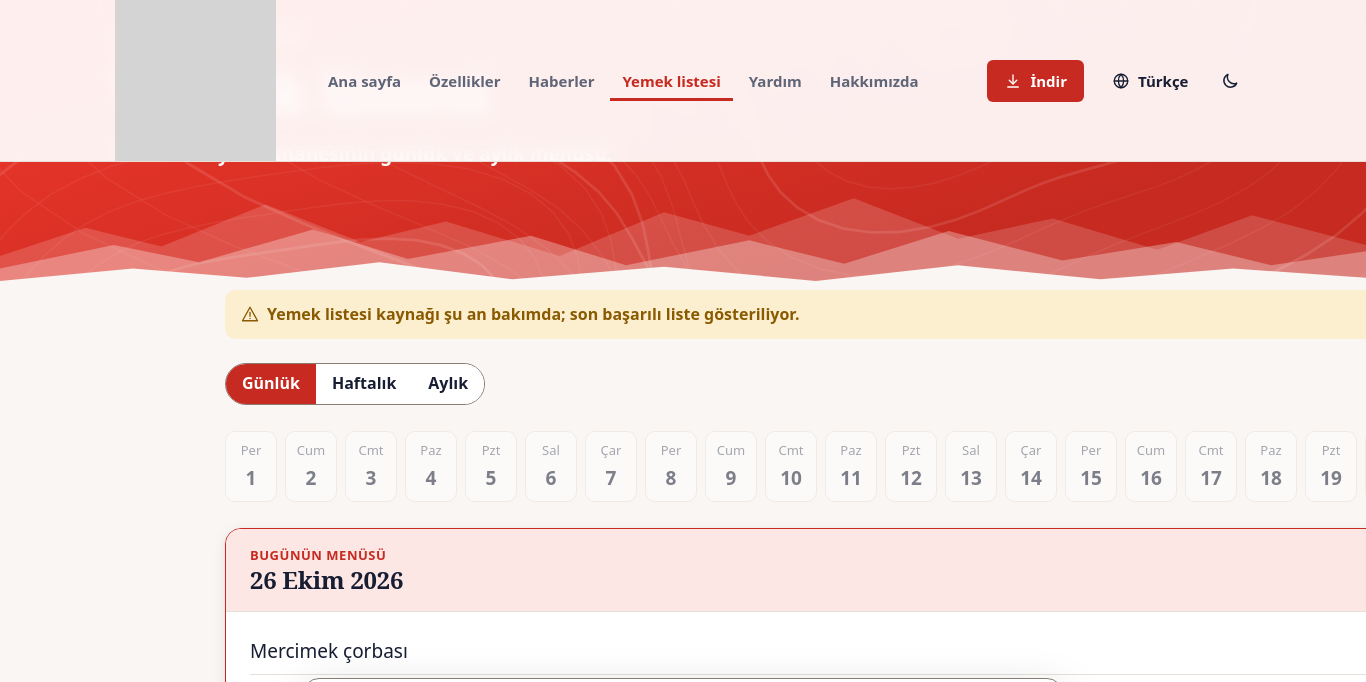
Test case: rota eşleşmesi ve sayfalar › yemek listesi günlük menüyü ve aylık görünümü gösterir
This screenshot has width=1366, height=682.
(page scrolled)
Check: the text "Mercimek çorbası" is shown, box top-left (250, 636), bottom-right (408, 666)
Click the button "Aylık" at (448, 384), box top-left (412, 364), bottom-right (484, 404)
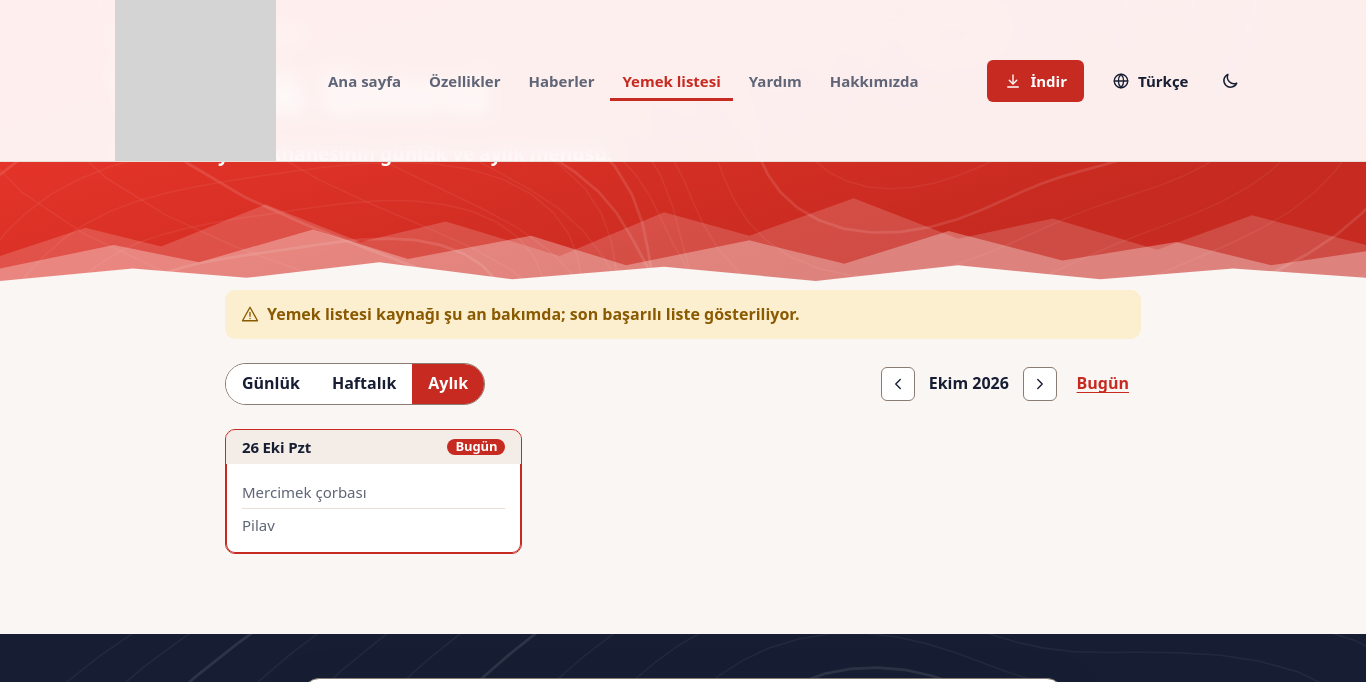
Check: the 1st heading is shown, box top-left (226, 430), bottom-right (521, 464)
